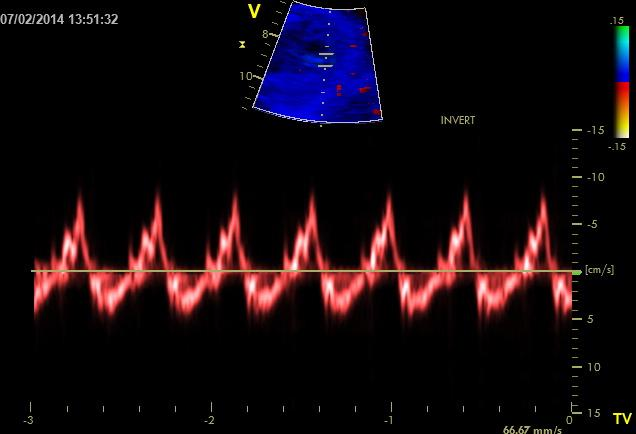Ultrasound-Waves: (33, 137, 571, 392)
